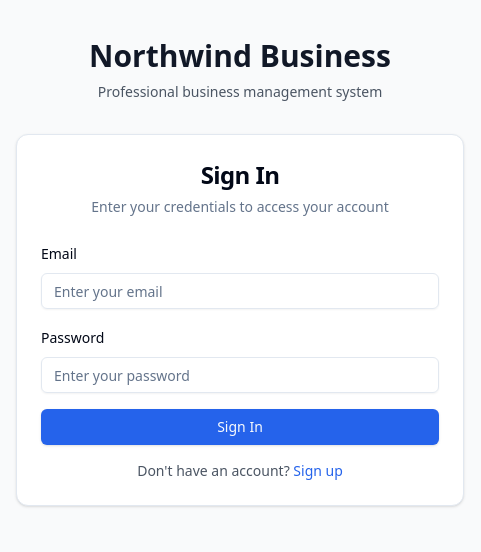
Test: Login › should show validation errors for invalid inputs
Click the button "Sign In". click: (240, 427)
box: [41,409,439,445]
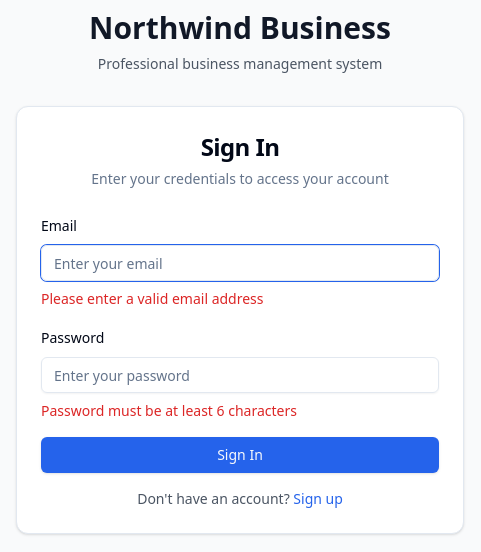
expect the text "Please enter a valid email address" is shown: met, box [41,289,264,308]
expect the text "Password must be at least 6 characters" is shown: met, box [41,401,297,420]
